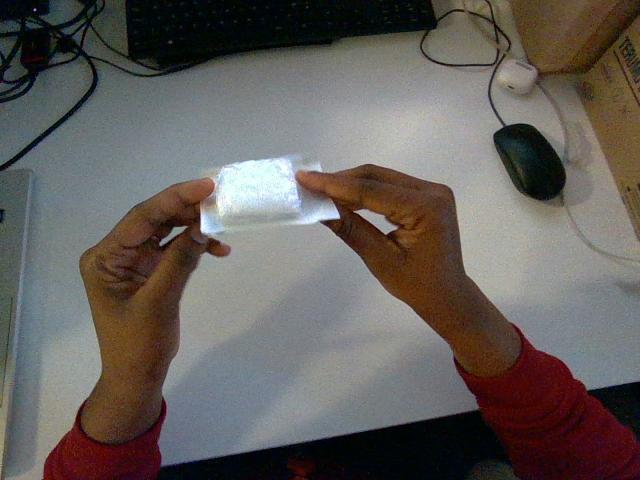gauze: (200, 157, 338, 235)
